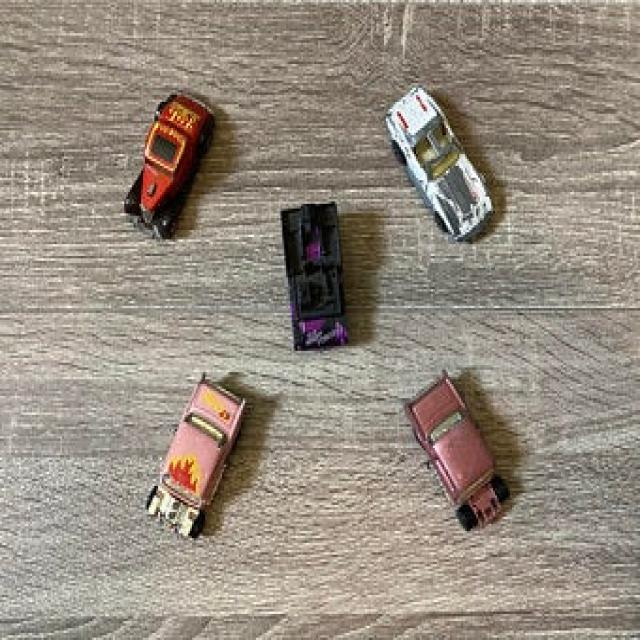Car: (405, 372, 508, 529), (388, 88, 491, 239), (149, 375, 243, 536), (124, 92, 213, 237), (282, 204, 344, 346)
